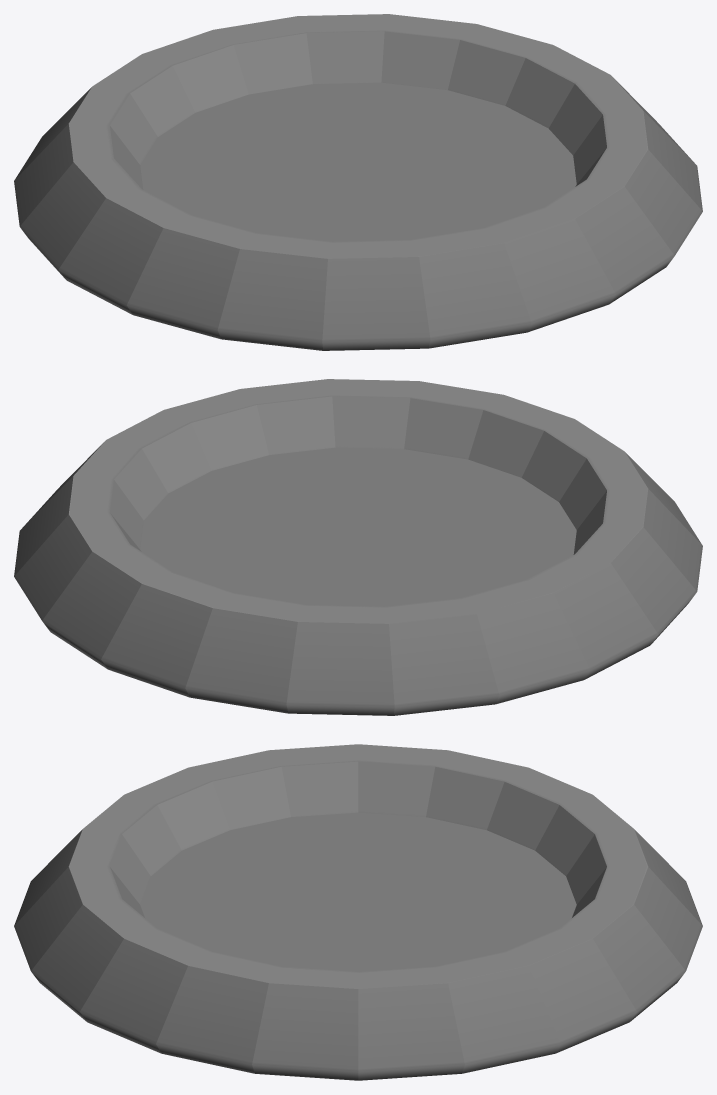
File: BLD_FoodTray.fbx
3 views of the same model, one above another, from view 1: azimuth 30°, elevation 25°; view 2: azimuth 150°, elevation 25°; view 3: azimuth 270°, elevation 25° (orthographic).
Parts seen in each view (by area): view 1: BLD_FoodTray_mesh; view 2: BLD_FoodTray_mesh; view 3: BLD_FoodTray_mesh.
Part boxes in pixels (left/top/right/bottom): BLD_FoodTray_mesh: left=14, top=14, right=702, bottom=350; BLD_FoodTray_mesh: left=14, top=379, right=702, bottom=715; BLD_FoodTray_mesh: left=14, top=744, right=702, bottom=1080.
Size of the model in its own units: 25.95 by 3.01 by 25.95.
